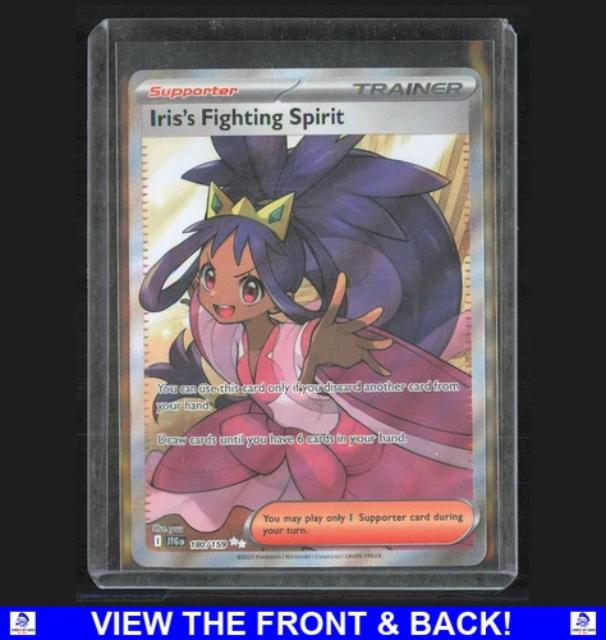Card: (119, 64, 492, 571)
Name: (147, 101, 352, 134)
